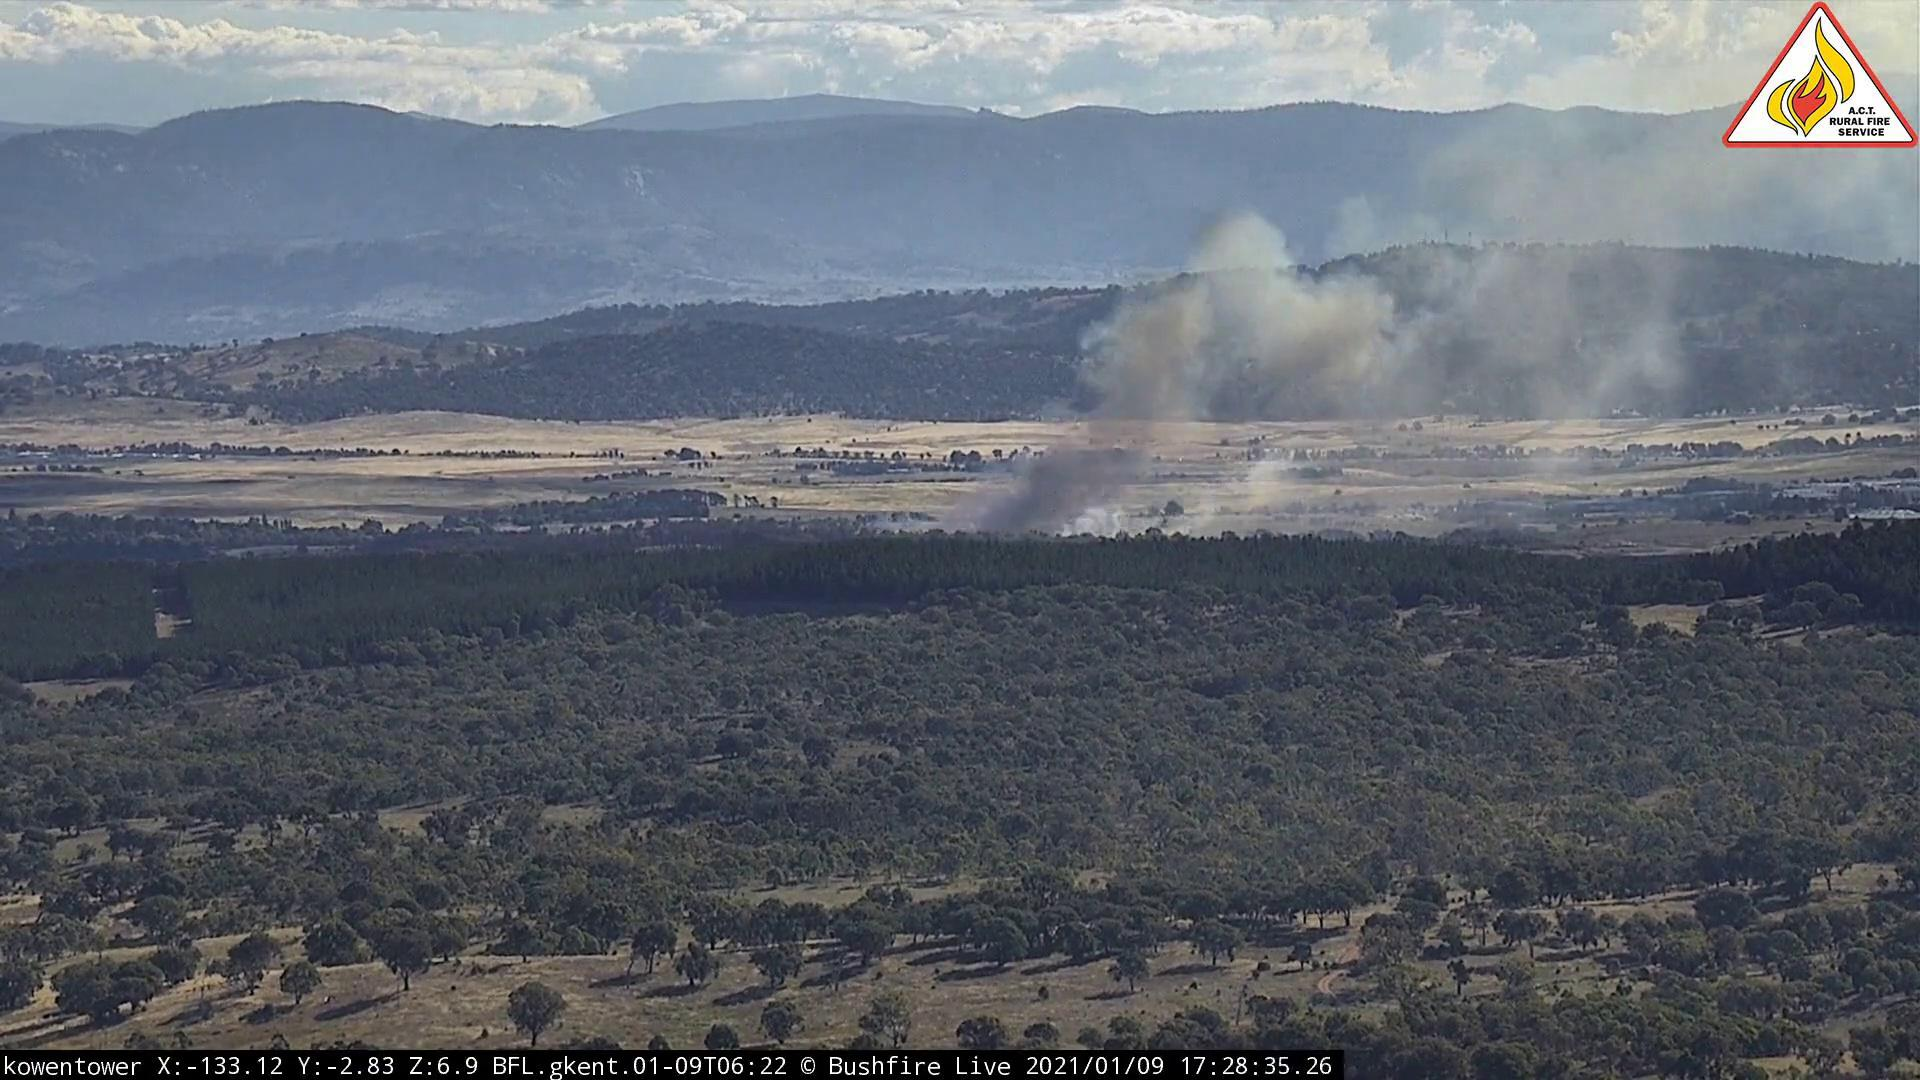Smoke: (881, 160, 1847, 545)
